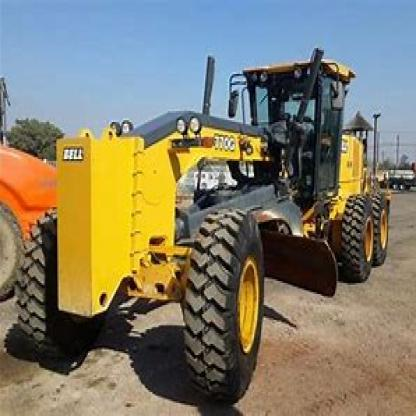bull_dozer/loader/grader: (34, 46, 395, 405)
